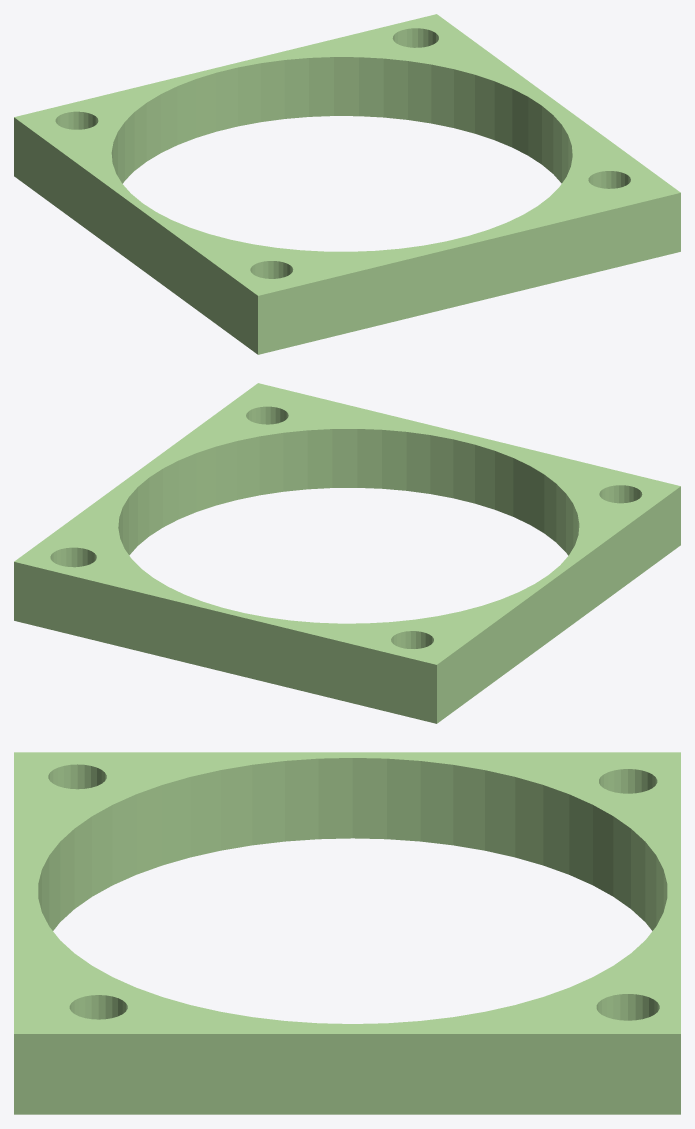
3 views of the same model, one above another, from view 1: azimuth 30°, elevation 25°; view 2: azimuth 150°, elevation 25°; view 3: azimuth 270°, elevation 25° (orthographic). The views are drawn at different scales.
Parts seen in each view (by area): view 1: 4; view 2: 4; view 3: 4.
Part boxes in pixels (x1,y1,x2,y2): 4: [14, 14, 680, 354]; 4: [14, 383, 680, 723]; 4: [14, 752, 680, 1114].
Bounding box in the file's own units: 1.43 × 0.1905 × 1.43.
